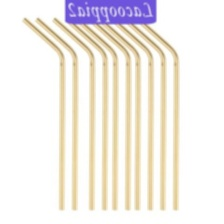drinking_straw: (19, 14, 71, 212)
